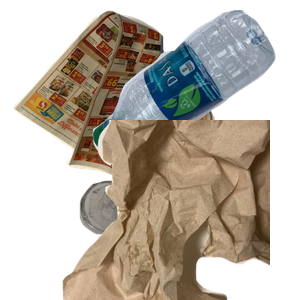glass: (77, 178, 205, 300)
paper: (10, 10, 217, 189)
plastic: (90, 10, 300, 156)
trash: (60, 120, 300, 300)
